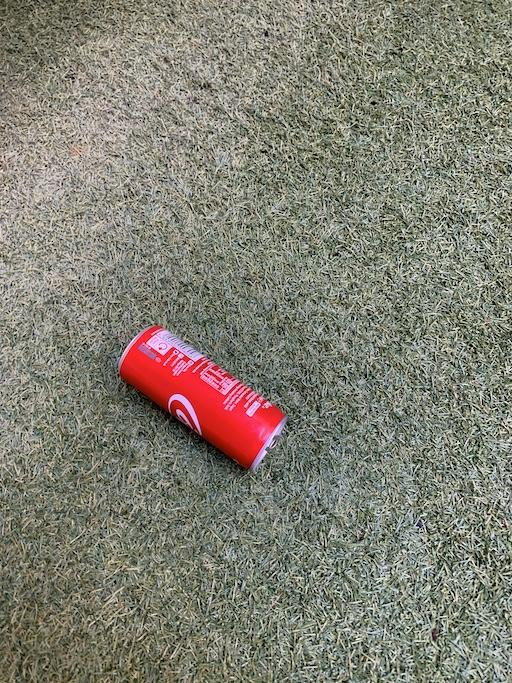Aluminum can: (88, 298, 316, 490)
